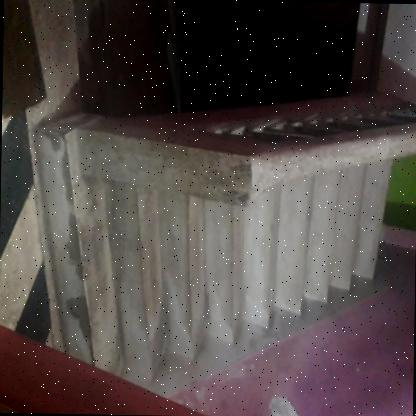stair: (28, 110, 416, 395)
